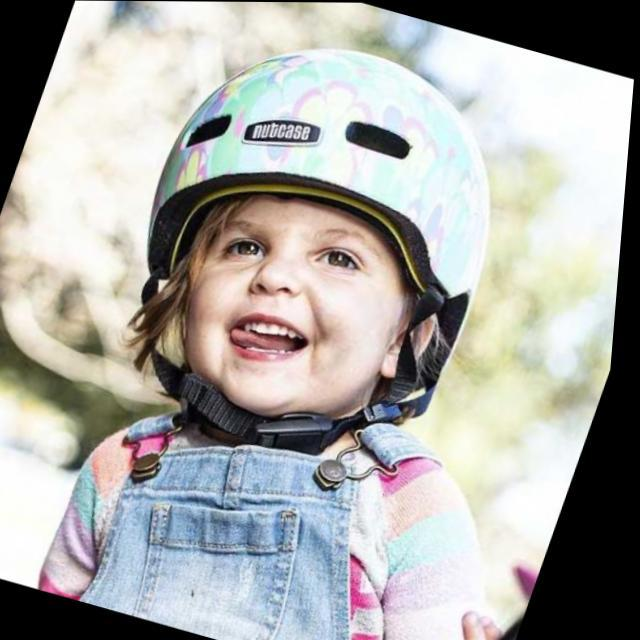Helmet: (138, 33, 500, 434)
